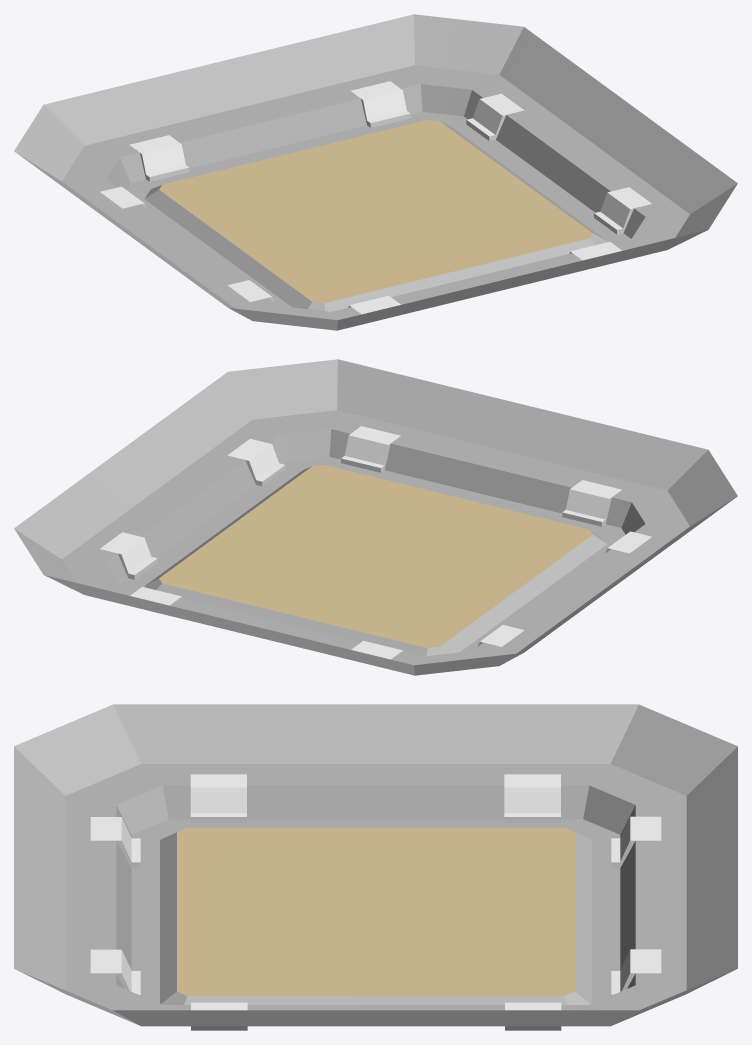
The model's file is deco_ceilingLight.FBX.
The picture shows the model from 3 angles, top to bottom: view 1: azimuth 30°, elevation 25°; view 2: azimuth 150°, elevation 25°; view 3: azimuth 270°, elevation 25°; orthographic projection. The views are drawn at different scales.
Visible parts, largest first — view 1: deco_ceilingLight; view 2: deco_ceilingLight; view 3: deco_ceilingLight.
Part boxes in pixels (bbox=[...]): deco_ceilingLight: bbox=[14, 14, 737, 330]; deco_ceilingLight: bbox=[14, 359, 737, 675]; deco_ceilingLight: bbox=[14, 704, 737, 1030].
Bounding box in the file's own units: 1.16 × 0.1206 × 1.16.
